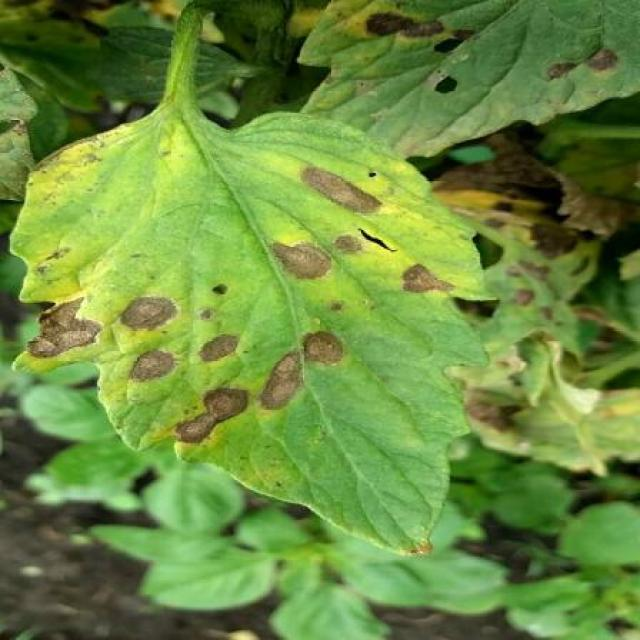Early Blight: (8, 108, 493, 559)
